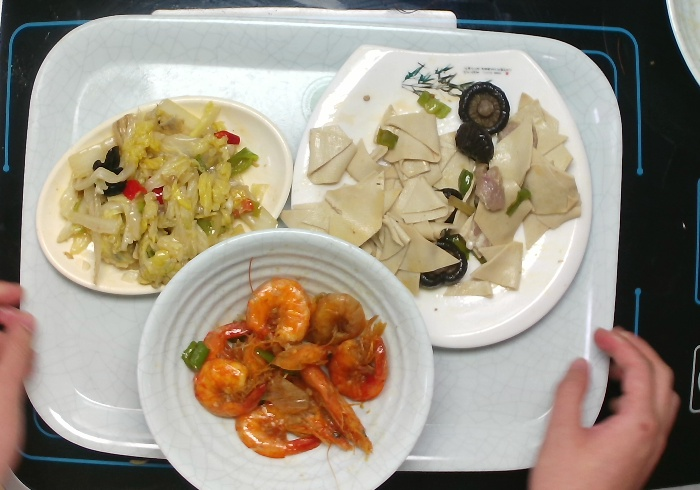JYsf-Mian_Pan: (290, 37, 594, 356)
JYsf-Tuo_Yuan_Wan: (32, 92, 298, 303)
JYsf-Xiao_Tang_Wan: (126, 218, 439, 490)
